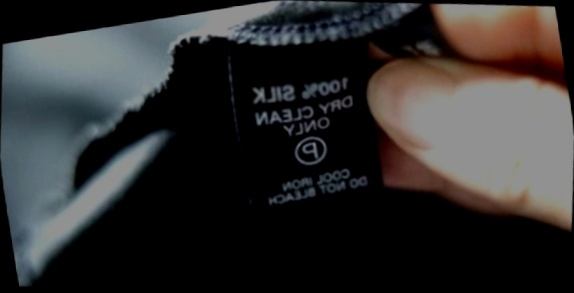dry_clean_any_solvent_except_trichloroethylene: (284, 126, 335, 175)
